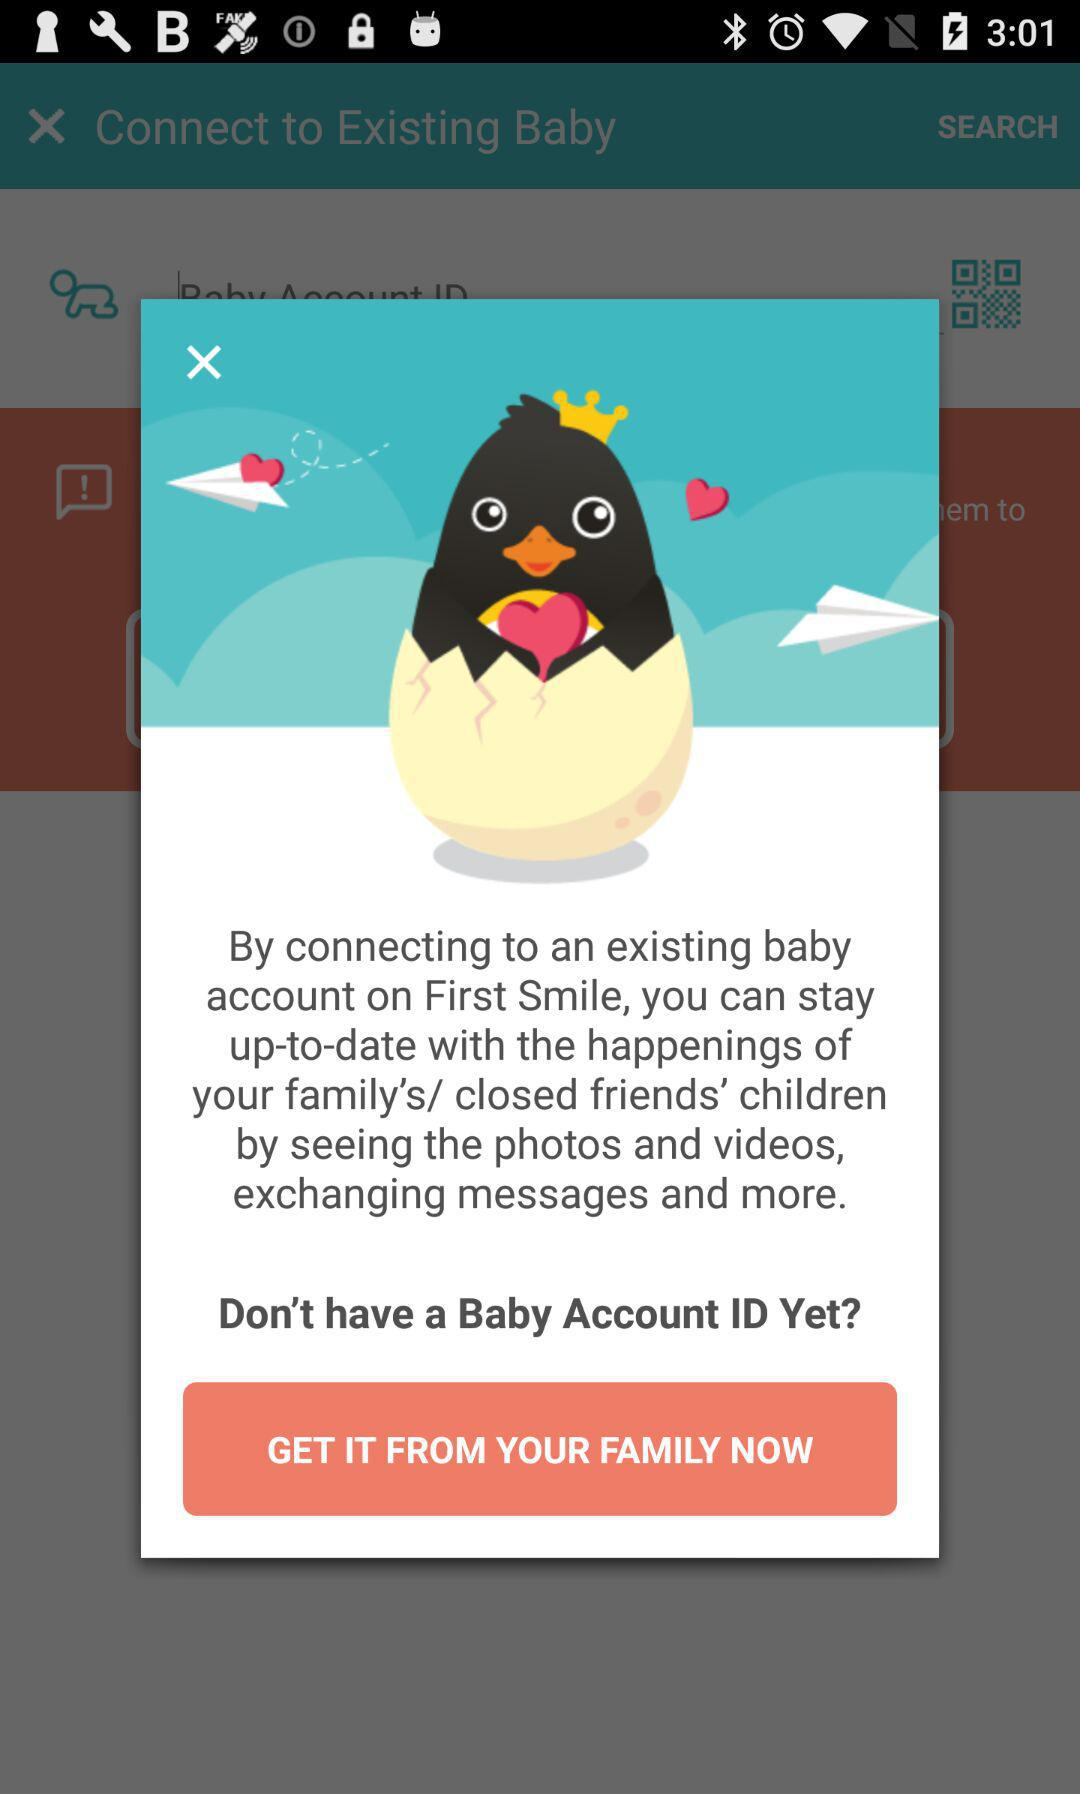Icon: (55, 464, 114, 522), (27, 108, 67, 147), (186, 343, 224, 382)
Image: (142, 300, 939, 885), (951, 260, 1022, 331), (50, 268, 120, 322)
Modal: (141, 299, 940, 1559)
Text: (192, 928, 887, 1219), (220, 1293, 862, 1339), (97, 108, 618, 158), (937, 114, 1058, 140)
TextButton: (183, 1381, 898, 1517)
UpperTaskBar: (1, 1, 1080, 64)
